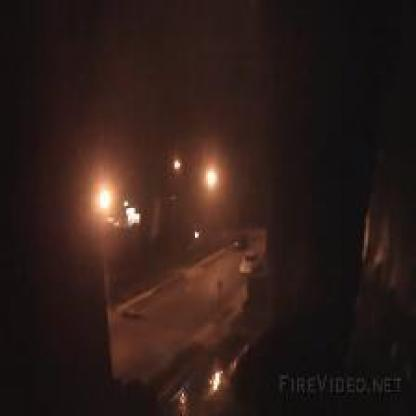other: (70, 152, 145, 247), (159, 362, 246, 409), (158, 151, 230, 202)
